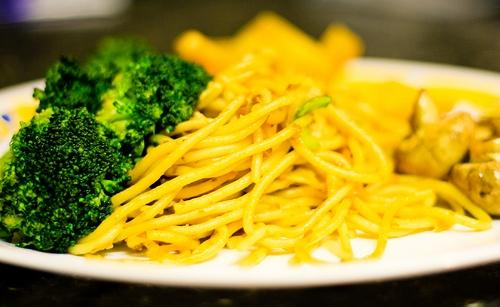broccoli: (32, 33, 214, 157), (0, 107, 134, 254)
